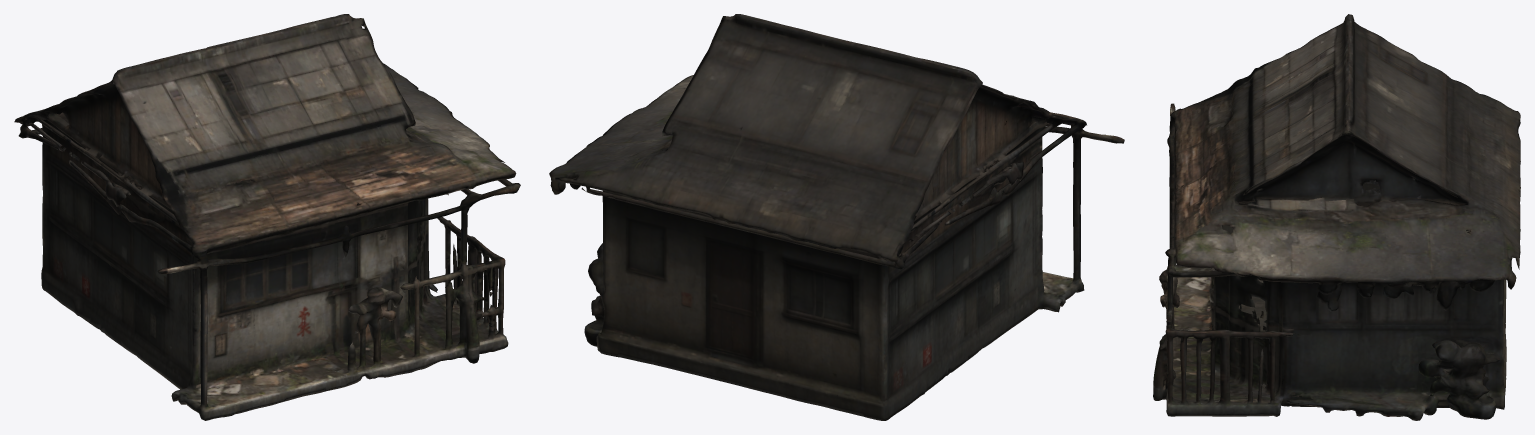
The model's file is Create_a_1_story_hous_0422083351_refine.fbx.
3 views of the same model, side by side, from view 1: azimuth 30°, elevation 25°; view 2: azimuth 150°, elevation 25°; view 3: azimuth 270°, elevation 25° (orthographic). The views are drawn at different scales.
Parts seen in each view (by area): view 1: Mesh1; view 2: Mesh1; view 3: Mesh1.
Part boxes in pixels (box(x1,y1,x2,y2)): Mesh1: box(14, 14, 520, 420); Mesh1: box(549, 14, 1124, 420); Mesh1: box(1153, 14, 1520, 420).
Bounding box in the file's own units: 205 × 144 × 178.
Materials: 1 (1 with a texture image).
